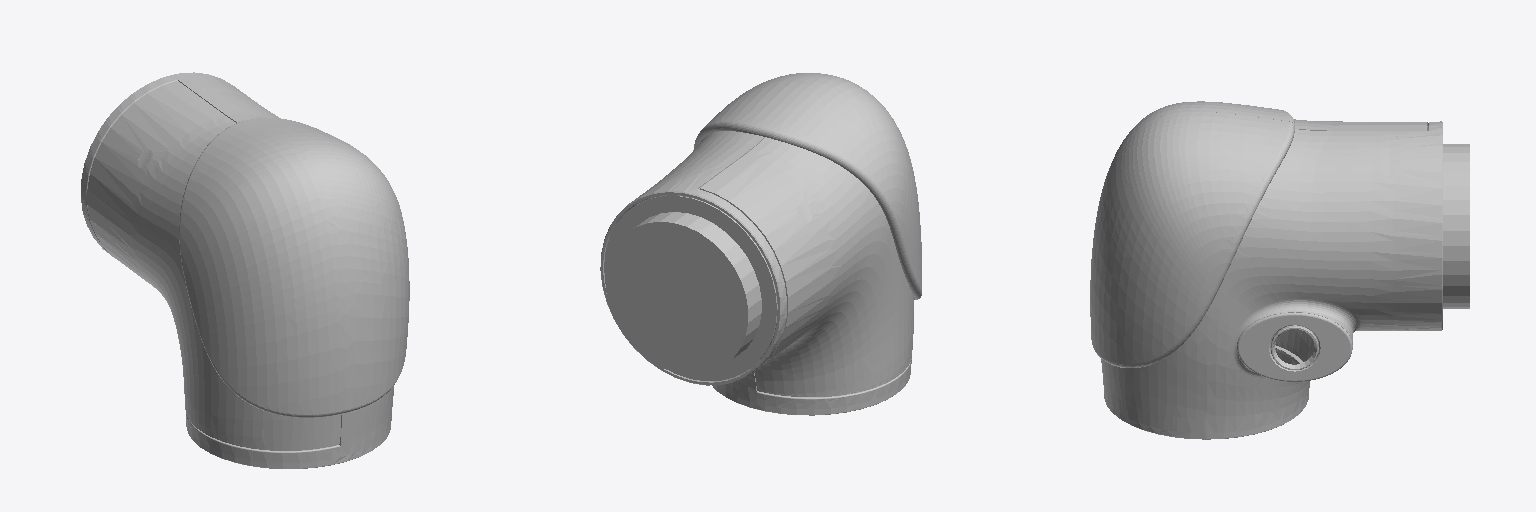
Rendered from right_l5_visuals.obj.
3 views of the same model, side by side, from view 1: azimuth 30°, elevation 25°; view 2: azimuth 150°, elevation 25°; view 3: azimuth 270°, elevation 25° (orthographic).
Size of the model in its own units: 0.0956 by 0.1278 by 0.154.